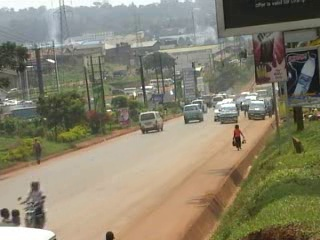Car: (211, 95, 234, 122)
Motorcycle: (17, 176, 51, 230)
